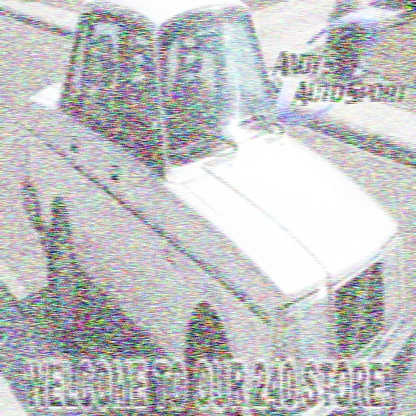Vehicle: (21, 2, 416, 414)
